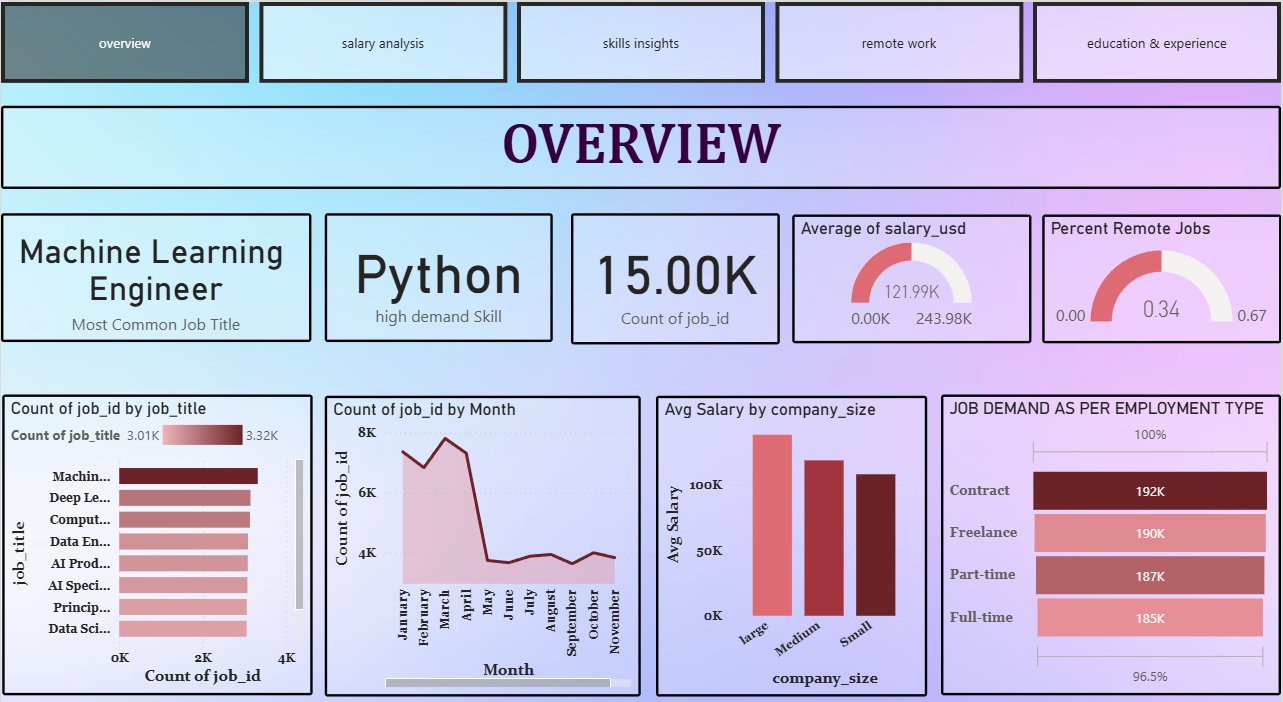

What the dashboard file says about the page in this screenshot:
{"tool":"powerbi","page":{"name":"overview","canvas":[1280,720],"ordinal":0},"visuals":[{"type":"card","fields":{"Values":["CountNonNull(ai_job_dataset1.job_id)"]},"box":[569.4,211.1,208.7,131.5],"z":0},{"type":"gauge","fields":{"Y":["Avg(ai_job_dataset1.salary_usd)"]},"box":[791.4,212.3,238.9,129.1],"z":1000},{"type":"gauge","fields":{"Y":["ai_job_dataset1.Percent Remote Jobs"]},"box":[1041.2,212.3,238.9,129.1],"z":2000},{"type":"card","title":"Jobs by Experience Level","fields":{"Values":["Dim_CompanySize.Most Common skill"]},"box":[323.3,211.1,228,129.1],"z":3000},{"type":"textbox","box":[0,103.3,1280,83.3],"z":4000},{"type":"card","fields":{"Values":["Dim_CompanySize.Most Common Job Title"]},"box":[0,211.1,310.1,129.1],"z":5000},{"type":"clusteredBarChart","fields":{"Category":["dim skills table.job_title"],"Y":["CountNonNull(dim skills table.job_id)"]},"box":[1.2,392.1,310.1,300.4],"z":6000},{"type":"lineChart","fields":{"Category":["ai_job_dataset1.posting_date.Variation.Date Hierarchy.Month"],"Y":["CountNonNull(dim skills table.job_id)"]},"box":[323.3,393.3,316.1,300.4],"z":7000},{"type":"clusteredColumnChart","fields":{"Category":["Dim_CompanySize.company_size"],"Y":["ai_job_dataset1.Avg Salary"]},"box":[655.1,393.3,271.4,300.4],"z":8000},{"type":"funnel","title":"JOB DEMAND AS PER EMPLOYMENT TYPE","fields":{"Category":["ai_job_dataset1.Employment_type1"],"Y":["Sum(ai_job_dataset1.remote_ratio)"]},"box":[939.8,392.1,340.2,300.4],"z":9000},{"type":"pageNavigator","box":[0,0,1280,81.7],"z":10000}]}

Visuals, with their boxes in screenshot pixels (x1, y1, x2, y2), scaled from the page's 1280x720 canvas onto the 1283x702 screenshot:
card - CountNonNull(ai_job_dataset1.job_id): locate(571, 206, 780, 334)
gauge - Avg(ai_job_dataset1.salary_usd): locate(793, 207, 1033, 333)
gauge - ai_job_dataset1.Percent Remote Jobs: locate(1044, 207, 1282, 333)
"Jobs by Experience Level" card: locate(324, 206, 553, 332)
textbox: locate(0, 101, 1282, 182)
card - Dim_CompanySize.Most Common Job Title: locate(0, 206, 311, 332)
clusteredBarChart - dim skills table.job_title x CountNonNull(dim skills table.job_id): locate(1, 382, 312, 675)
lineChart - ai_job_dataset1.posting_date.Variation.Date Hierarchy.Month x CountNonNull(dim skills table.job_id): locate(324, 383, 641, 676)
clusteredColumnChart - Dim_CompanySize.company_size x ai_job_dataset1.Avg Salary: locate(657, 383, 929, 676)
"JOB DEMAND AS PER EMPLOYMENT TYPE" funnel: locate(942, 382, 1282, 675)
pageNavigator: locate(0, 0, 1282, 80)
